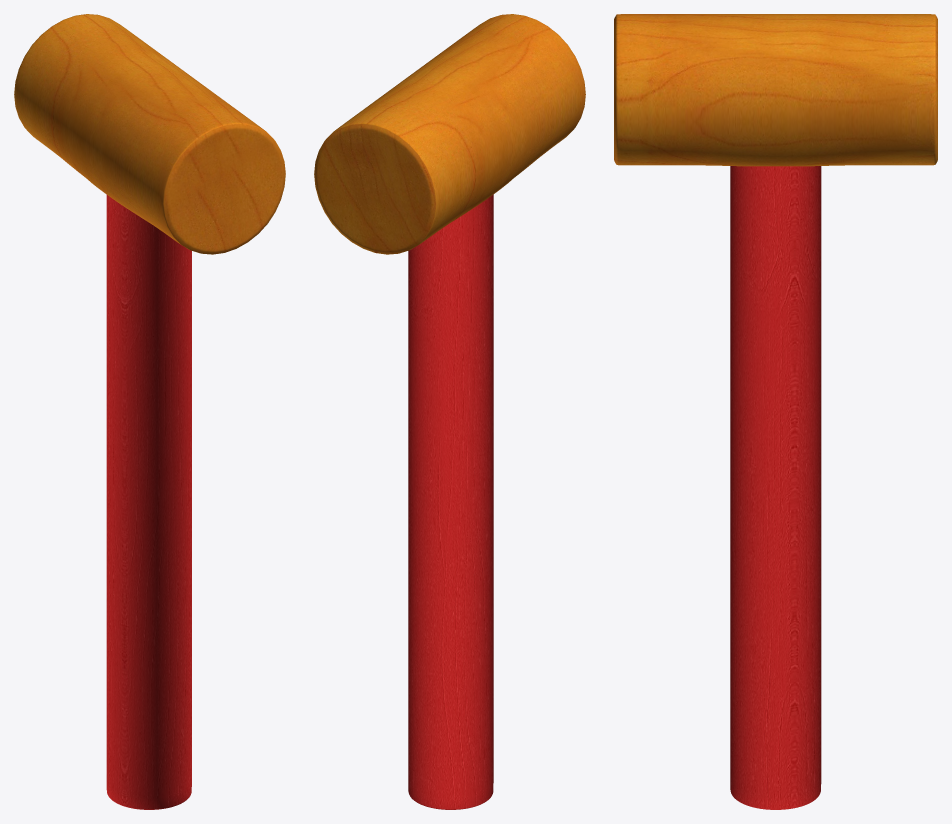
The model's file is 11685_hammer_v1_L3.obj.
3 renders of one model, left to right at view 1: azimuth 30°, elevation 25°; view 2: azimuth 150°, elevation 25°; view 3: azimuth 270°, elevation 25°, orthographic. The views are drawn at different scales.
Visible parts, largest first — view 1: hammer_handle, hammer_body; view 2: hammer_handle, hammer_body; view 3: hammer_handle, hammer_body.
Boxes of the visible parts, x1,y1,x2,y2 form: hammer_handle: [106, 195, 191, 809]; hammer_body: [14, 14, 285, 254]; hammer_handle: [408, 194, 493, 809]; hammer_body: [314, 14, 585, 254]; hammer_handle: [730, 166, 821, 809]; hammer_body: [614, 14, 937, 166].
Bounding box in the file's own units: 2.94 × 16.49 × 6.28.
2 materials, 2 textured.
